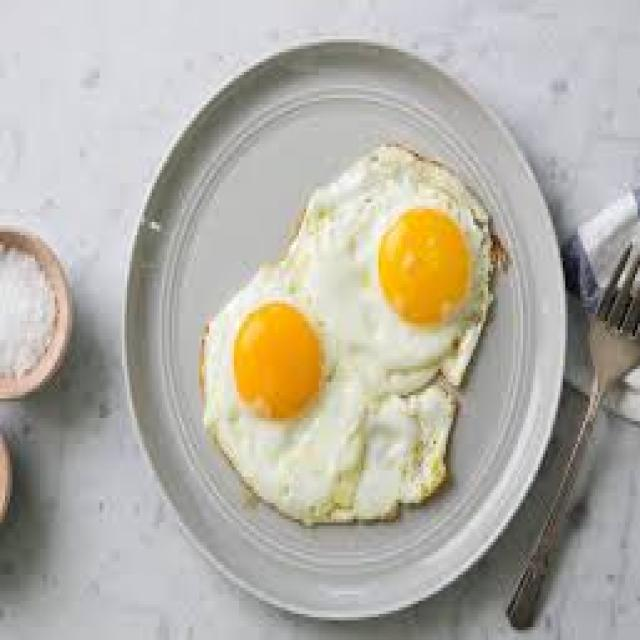Egg: (205, 146, 495, 524)
